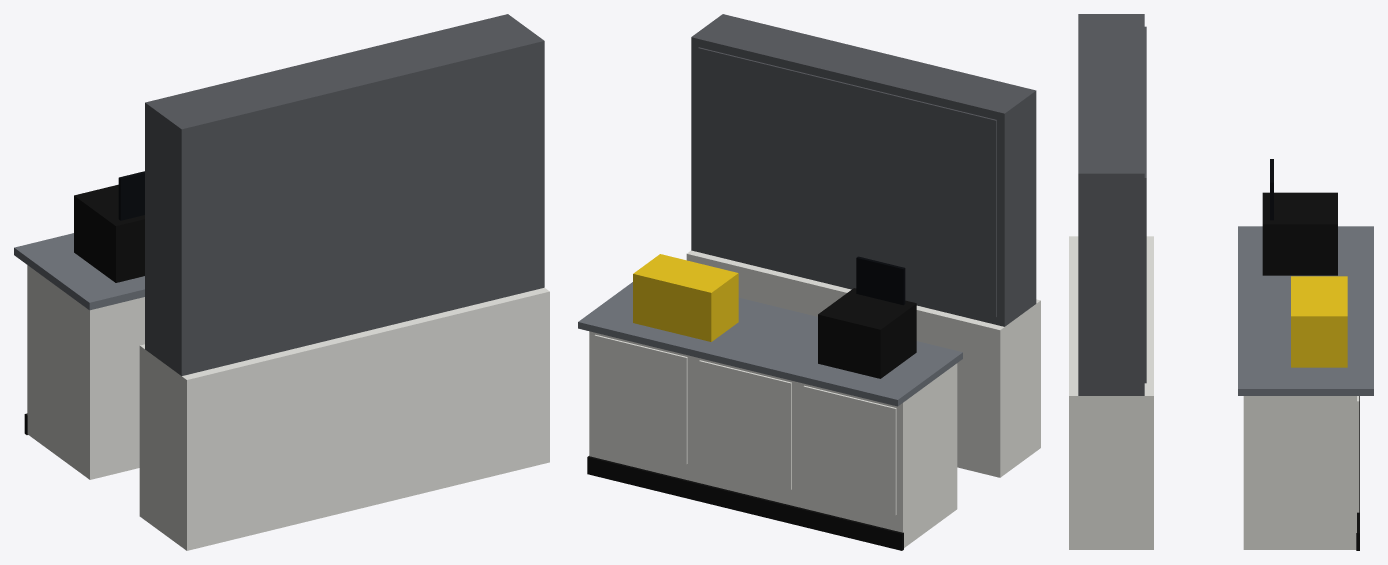
The model's file is retail.store.counter.glb.
3 views of the same model, side by side, from view 1: azimuth 30°, elevation 25°; view 2: azimuth 150°, elevation 25°; view 3: azimuth 270°, elevation 25° (orthographic). The views are drawn at different scales.
Parts seen in each view (by area): view 1: gantry__plastic_grey, gantry__laminate_white, main__laminate_white, main__plastic_black, main__laminate_grey, main__screen; view 2: gantry__plastic_grey, main__laminate_white, gantry__laminate_white, main__laminate_grey, main__plastic_black, main__plastic_yellow, main__screen; view 3: gantry__plastic_grey, main__laminate_white, gantry__laminate_white, main__laminate_grey, main__plastic_black, main__plastic_yellow.
Part boxes in pixels (x1,y1,x2,y2): gantry__plastic_grey: [145, 14, 544, 375]; gantry__laminate_white: [139, 287, 549, 550]; main__laminate_white: [27, 265, 144, 479]; main__plastic_black: [24, 184, 144, 434]; main__laminate_grey: [14, 233, 144, 310]; main__screen: [118, 171, 144, 220]; gantry__plastic_grey: [691, 14, 1036, 326]; main__laminate_white: [589, 331, 957, 547]; gantry__laminate_white: [686, 250, 1040, 477]; main__laminate_grey: [578, 282, 962, 406]; main__plastic_black: [587, 288, 916, 550]; main__plastic_yellow: [633, 254, 738, 341]; main__screen: [856, 256, 905, 305]; gantry__plastic_grey: [1078, 14, 1146, 395]; main__laminate_white: [1243, 396, 1359, 549]; gantry__laminate_white: [1069, 236, 1153, 549]; main__laminate_grey: [1238, 226, 1373, 395]; main__plastic_black: [1262, 192, 1359, 550]; main__plastic_yellow: [1291, 276, 1347, 367].
Bounding box in the file's own units: 2.04 × 2.2 × 1.62.
